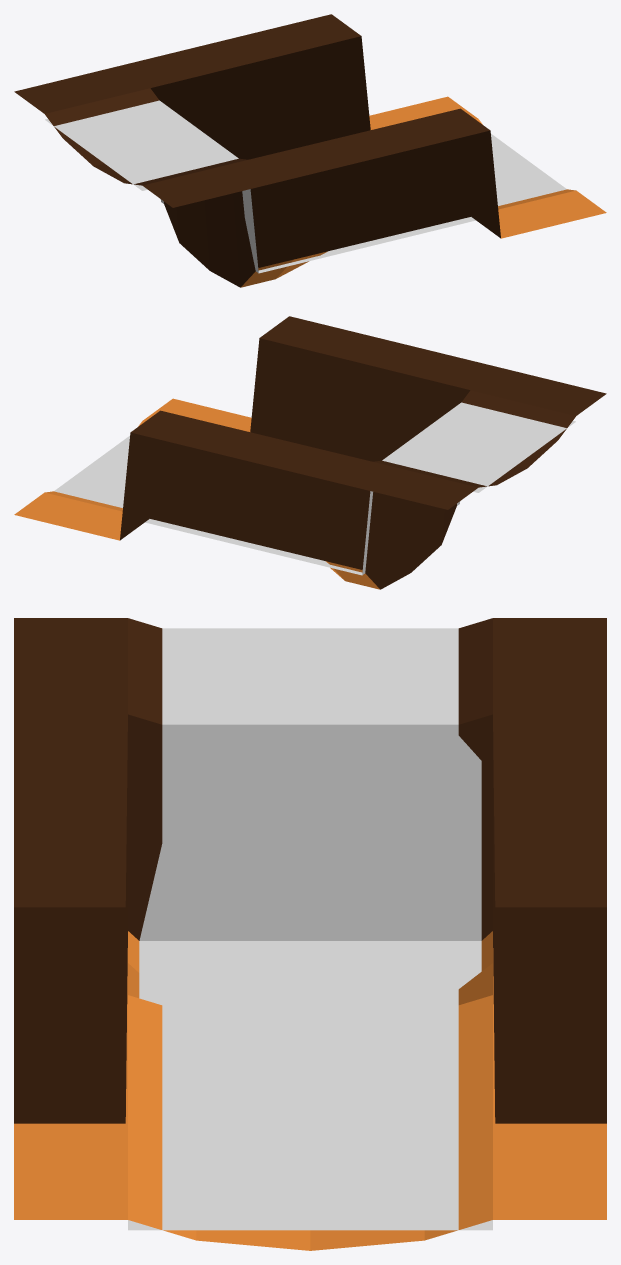
Rendered from test_waterfall.fbx.
3 renders of one model, top to bottom at view 1: azimuth 30°, elevation 25°; view 2: azimuth 150°, elevation 25°; view 3: azimuth 270°, elevation 25°, orthographic. The views are drawn at different scales.
Parts seen in each view (by area): view 1: terrain, water; view 2: terrain, water; view 3: water, terrain.
Boxes of the visible parts, left/top/right/bottom form: terrain: left=14, top=14, right=606, bottom=287; water: left=45, top=100, right=566, bottom=273; terrain: left=14, top=316, right=606, bottom=589; water: left=54, top=402, right=575, bottom=575; water: left=128, top=628, right=492, bottom=1230; terrain: left=14, top=618, right=606, bottom=1250.
Size of the model in its own units: 410 by 135 by 260.
Materials: 1 (1 with a texture image).
